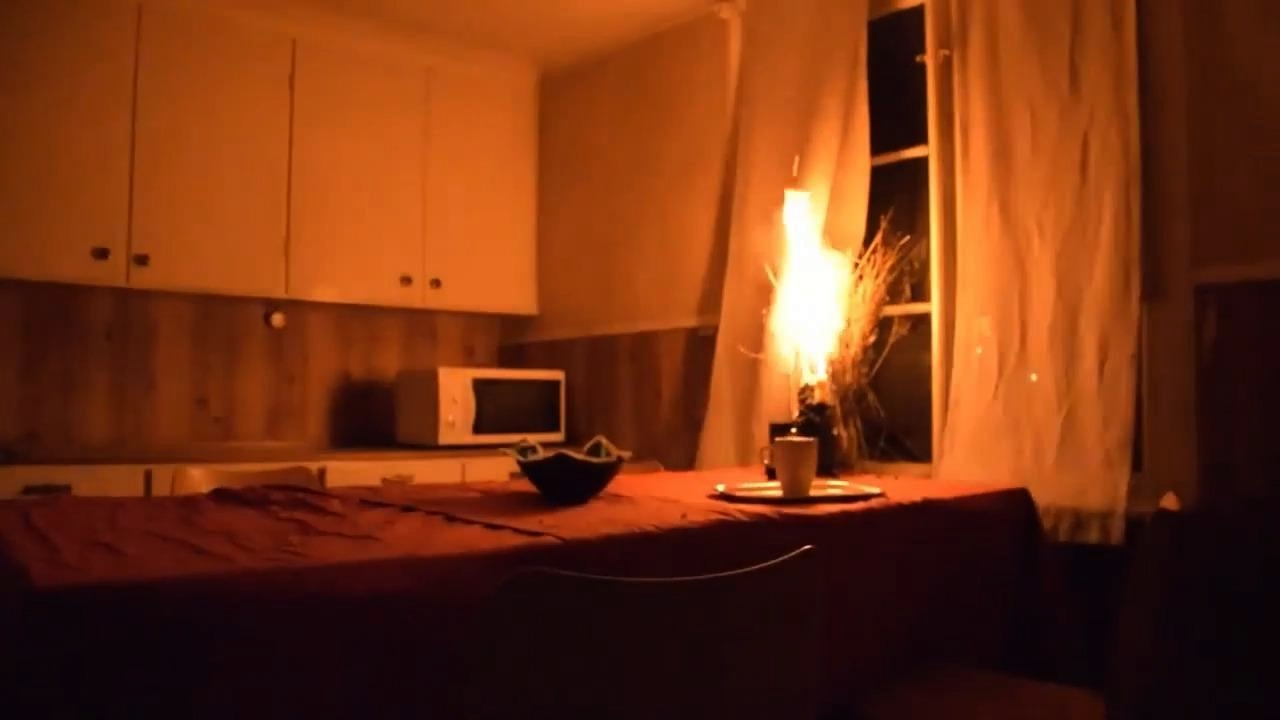fire: (737, 163, 898, 416)
